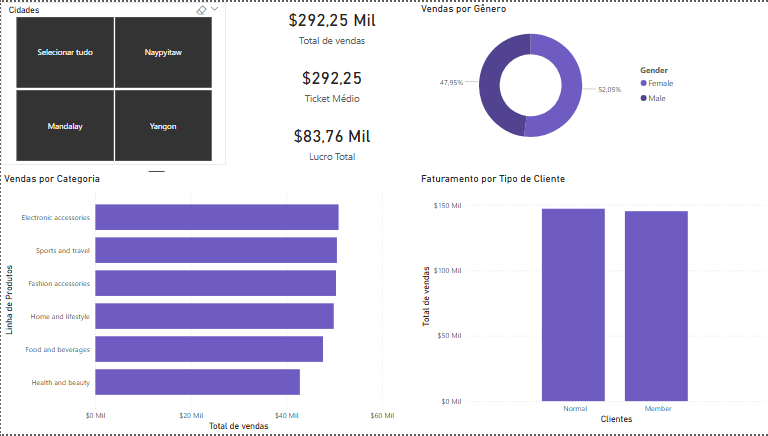

The dashboard page shown, as its layout file describes it:
{"tool":"powerbi","page":{"name":"Análise Diagnóstica","canvas":[1280,720],"ordinal":2},"visuals":[{"type":"card","fields":{"Values":["dataset-IAN-Store.Total de vendas"]},"box":[398.3,0,306.7,78.3],"z":0},{"type":"slicer","fields":{"Values":["dataset-IAN-Store.City"]},"box":[0,0,375,271.7],"z":1000},{"type":"card","fields":{"Values":["dataset-IAN-Store.Ticket Médio"]},"box":[398.3,96.7,306.7,78.3],"z":2000},{"type":"card","fields":{"Values":["dataset-IAN-Store.Lucro Total"]},"box":[398.3,193.3,306.7,78.3],"z":3000},{"type":"clusteredBarChart","title":"Vendas por Categoria","fields":{"Category":["dataset-IAN-Store.Product line"],"Y":["dataset-IAN-Store.Total de vendas"]},"box":[0,283.3,660,436.7],"z":4000},{"type":"clusteredColumnChart","title":"Faturamento por Tipo de Cliente","fields":{"Category":["dataset-IAN-Store.Customer type"],"Y":["dataset-IAN-Store.Total de vendas"]},"box":[695,283.3,585,425],"z":5000},{"type":"donutChart","title":"Vendas por Gênero","fields":{"Y":["dataset-IAN-Store.Total de vendas"],"Category":["dataset-IAN-Store.Gender"]},"box":[694.3,0,441.4,258.6],"z":6000}]}

Visuals, with their boxes in screenshot pixels (x1, y1, x2, y2), scaled from the page's 1280x720 canvas onto the 768x436 screenshot:
card - dataset-IAN-Store.Total de vendas: BBox(239, 0, 423, 47)
slicer - dataset-IAN-Store.City: BBox(0, 0, 225, 165)
card - dataset-IAN-Store.Ticket Médio: BBox(239, 59, 423, 106)
card - dataset-IAN-Store.Lucro Total: BBox(239, 117, 423, 164)
"Vendas por Categoria" clusteredBarChart: BBox(0, 172, 396, 435)
"Faturamento por Tipo de Cliente" clusteredColumnChart: BBox(417, 172, 767, 429)
"Vendas por Gênero" donutChart: BBox(417, 0, 681, 157)
